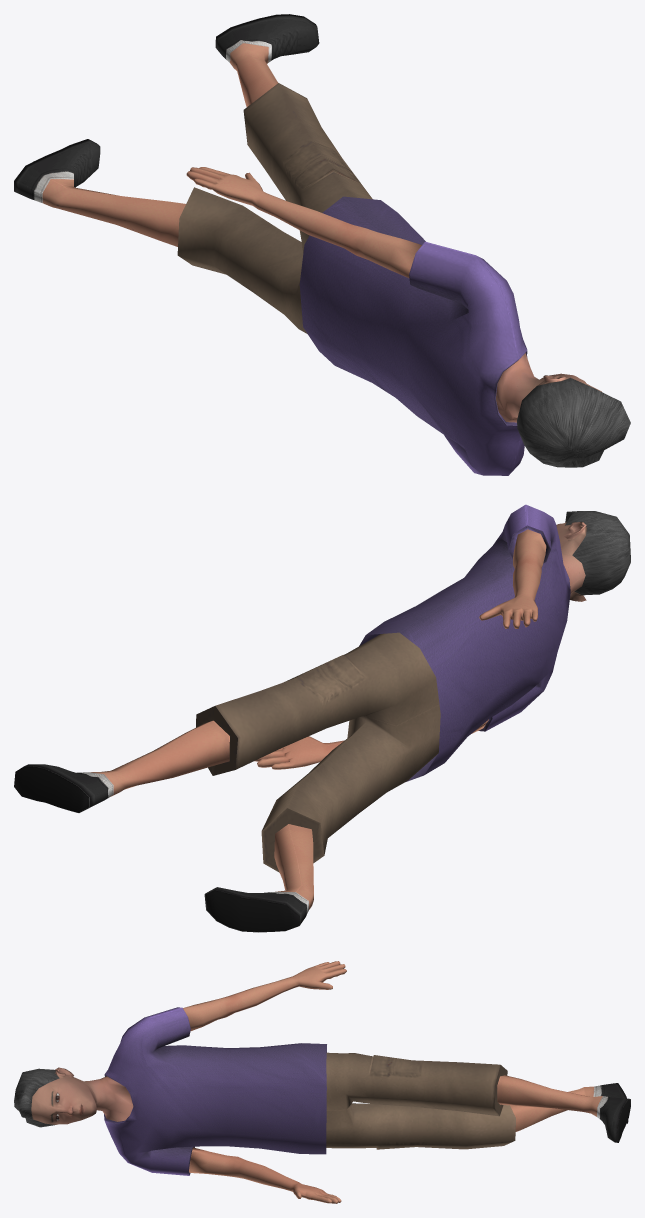
Rendered from walk.obj.
3 views of the same model, one above another, from view 1: azimuth 30°, elevation 25°; view 2: azimuth 150°, elevation 25°; view 3: azimuth 270°, elevation 25° (orthographic). The views are drawn at different scales.
Bounding box in the file's own units: 0.7394 × 0.4988 × 1.75.
1 material, 1 textured.
